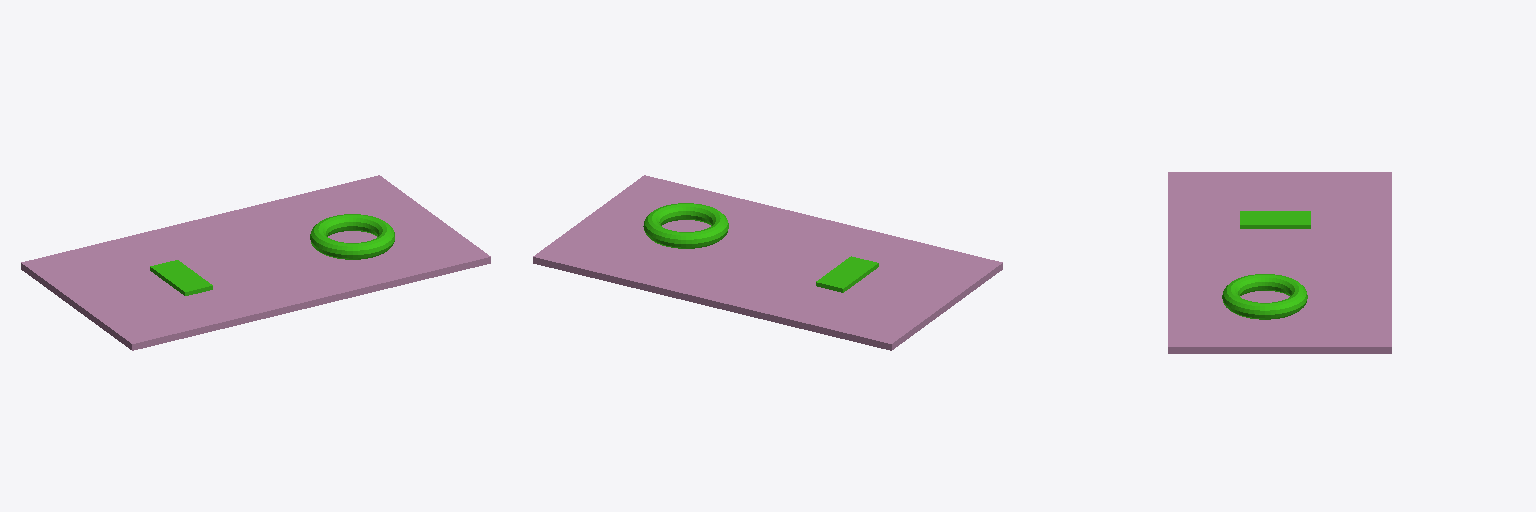
The picture shows the model from 3 angles: view 1: azimuth 30°, elevation 25°; view 2: azimuth 150°, elevation 25°; view 3: azimuth 270°, elevation 25°; orthographic projection.
Parts seen in each view (by area): view 1: 立方体.005, 立方体.004; view 2: 立方体.005, 立方体.004; view 3: 立方体.005, 立方体.004.
Part boxes in pixels (left/top/right/bottom): 立方体.005: left=21, top=175, right=490, bottom=350; 立方体.004: left=150, top=214, right=394, bottom=295; 立方体.005: left=533, top=175, right=1002, bottom=350; 立方体.004: left=643, top=203, right=878, bottom=292; 立方体.005: left=1168, top=172, right=1391, bottom=353; 立方体.004: left=1222, top=211, right=1310, bottom=319.
Size of the model in its own units: 156 by 8.63 by 84.07.